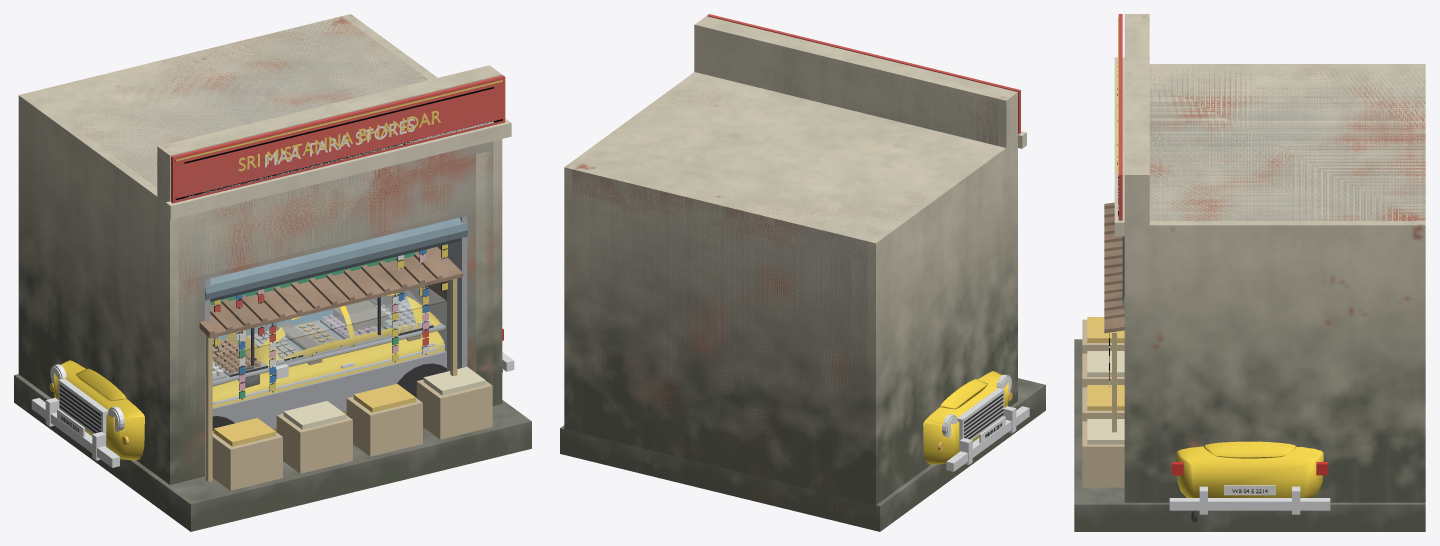
File: kolkata-street.glb
3 renders of one model, left to right at view 1: azimuth 30°, elevation 25°; view 2: azimuth 150°, elevation 25°; view 3: azimuth 270°, elevation 25°, orthographic. The views are drawn at different scales.
Parts seen in each view (by area): view 1: Shop - sweet shop (mishtir dokan), Shop - grocery (mudikhana), Taxi - body, Shop - tea stall, Sweet shop sign, Grocery sign, Shop - paan kiosk, Taxi - interior; view 2: Shop - sweet shop (mishtir dokan), Shop - grocery (mudikhana), Taxi - body; view 3: Shop - sweet shop (mishtir dokan), Shop - grocery (mudikhana), Taxi - body, Shop - tea stall.
Boxes of the visible parts, x1,y1,x2,y2 form: Shop - sweet shop (mishtir dokan): (14, 14, 531, 531); Shop - grocery (mudikhana): (74, 16, 502, 528); Taxi - body: (31, 290, 514, 467); Shop - tea stall: (199, 247, 463, 481); Sweet shop sign: (238, 111, 440, 171); Grocery sign: (265, 118, 414, 167); Shop - paan kiosk: (213, 297, 380, 365); Taxi - interior: (237, 299, 421, 387); Shop - sweet shop (mishtir dokan): (560, 14, 1045, 531); Shop - grocery (mudikhana): (568, 33, 1030, 528); Taxi - body: (923, 371, 1029, 471); Shop - sweet shop (mishtir dokan): (1074, 14, 1425, 531); Shop - grocery (mudikhana): (1074, 65, 1425, 487); Taxi - body: (1169, 441, 1330, 522); Shop - tea stall: (1104, 202, 1124, 432).
Bounding box in the file's own units: 4.65 × 3.9 × 3.5.
95 materials, 84 textured.
